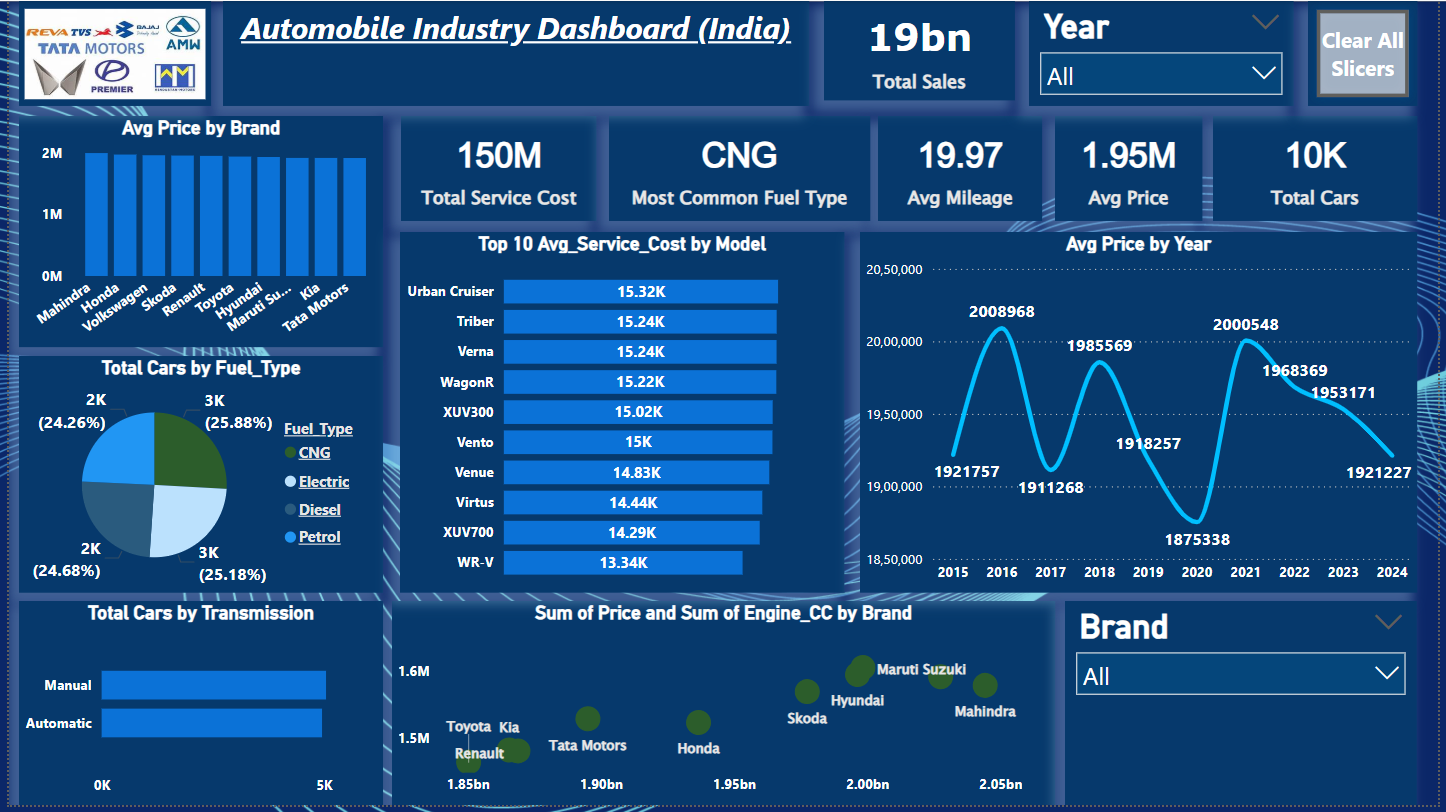

The dashboard page shown, as its layout file describes it:
{"tool":"powerbi","page":{"name":"Car dataset india dashboard","canvas":[1280,720],"ordinal":0},"visuals":[{"type":"card","fields":{"Values":["car_dataset_india.Total Cars"]},"box":[1078.2,102.7,182.7,93.6],"z":0},{"type":"card","fields":{"Values":["car_dataset_india.Avg Price"]},"box":[936.4,102.7,131.8,93.6],"z":1000},{"type":"card","fields":{"Values":["car_dataset_india.Total Service Cost"]},"box":[350.9,102.7,175.5,93.6],"z":2000},{"type":"card","fields":{"Values":["car_dataset_india.Avg Mileage"]},"box":[778.2,102.7,147.3,93.6],"z":3000},{"type":"card","fields":{"Values":["car_dataset_india.Most Common Fuel Type"]},"box":[537.3,102.7,233.6,93.6],"z":4000},{"type":"textbox","box":[192,0,525,94],"z":5000},{"type":"slicer","fields":{"Values":["car_dataset_india.Year"]},"box":[913,0,237,94],"z":6000},{"type":"scatterChart","fields":{"X":["Sum(car_dataset_india.Price)"],"Y":["Sum(car_dataset_india.Engine_CC)"],"Category":["car_dataset_india.Brand"]},"box":[342.7,537.3,593.6,182.7],"z":7000},{"type":"clusteredColumnChart","fields":{"Category":["car_dataset_india.Brand"],"Y":["car_dataset_india.Avg Price"]},"box":[9.1,102.7,326.4,207.3],"z":8000},{"type":"pieChart","fields":{"Category":["car_dataset_india.Fuel_Type"],"Y":["car_dataset_india.Total Cars"]},"box":[9.1,318.2,326.4,211.8],"z":9000},{"type":"barChart","fields":{"Y":["car_dataset_india.Total Cars"],"Category":["car_dataset_india.Transmission"]},"box":[9,537,326,183],"z":10000},{"type":"barChart","title":" Top 10  Avg_Service_Cost by Model","fields":{"Category":["car_dataset_india.Model"],"Y":["car_dataset_india.Avg_Service_Cost"]},"box":[350,207,398,323],"z":11000},{"type":"lineChart","fields":{"Y":["car_dataset_india.Avg Price"],"Category":["car_dataset_india.Year"]},"box":[761.8,207.3,499.1,322.7],"z":12000},{"type":"slicer","fields":{"Values":["car_dataset_india.Brand"]},"box":[946,537,315,183],"z":13000},{"type":"actionButton","box":[1163,0,98,94],"z":14000},{"type":"card","fields":{"Values":["car_dataset_india.Total Sales"]},"box":[730,0,171,89],"z":15000},{"type":"image","box":[9,0,172,94],"z":16000}]}

Visuals, with their boxes in screenshot pixels (x1, y1, x2, y2), scaled from the page's 1280x720 canvas onto the 1446x812 screenshot:
card - car_dataset_india.Total Cars: crop(1218, 116, 1424, 221)
card - car_dataset_india.Avg Price: crop(1058, 116, 1207, 221)
card - car_dataset_india.Total Service Cost: crop(396, 116, 595, 221)
card - car_dataset_india.Avg Mileage: crop(879, 116, 1046, 221)
card - car_dataset_india.Most Common Fuel Type: crop(607, 116, 871, 221)
textbox: crop(217, 0, 810, 106)
slicer - car_dataset_india.Year: crop(1031, 0, 1299, 106)
scatterChart - Sum(car_dataset_india.Price) x Sum(car_dataset_india.Engine_CC): crop(387, 606, 1058, 811)
clusteredColumnChart - car_dataset_india.Brand x car_dataset_india.Avg Price: crop(10, 116, 379, 350)
pieChart - car_dataset_india.Fuel_Type x car_dataset_india.Total Cars: crop(10, 359, 379, 598)
barChart - car_dataset_india.Total Cars x car_dataset_india.Transmission: crop(10, 606, 378, 811)
" Top 10  Avg_Service_Cost by Model" barChart: crop(395, 233, 845, 598)
lineChart - car_dataset_india.Avg Price x car_dataset_india.Year: crop(861, 234, 1424, 598)
slicer - car_dataset_india.Brand: crop(1069, 606, 1425, 811)
actionButton: crop(1314, 0, 1425, 106)
card - car_dataset_india.Total Sales: crop(825, 0, 1018, 100)
image: crop(10, 0, 204, 106)
